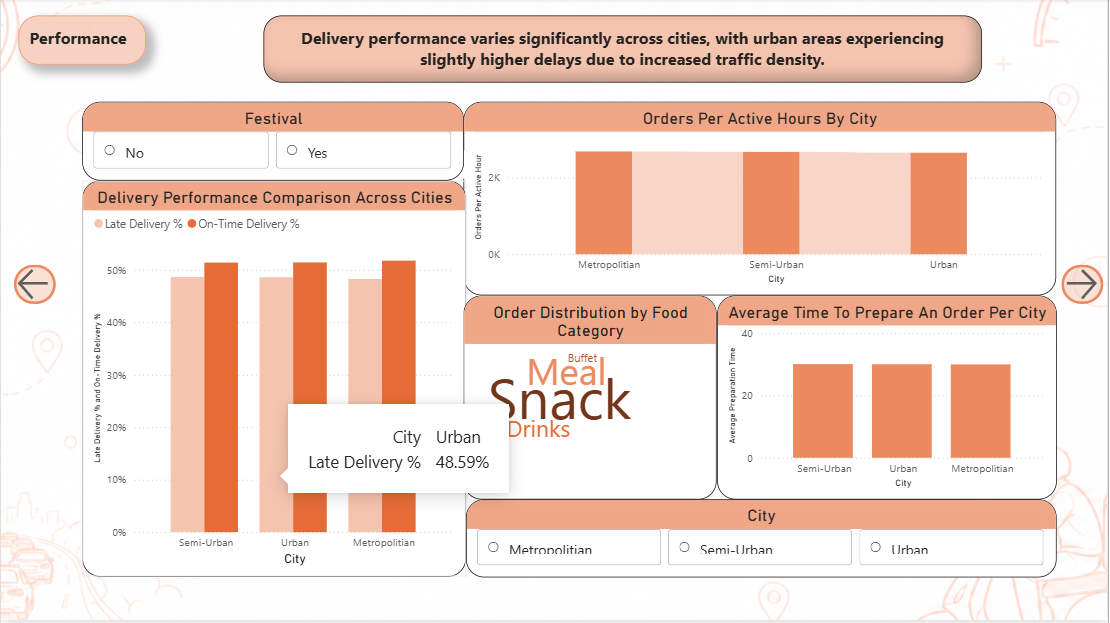

Layout of this report page (visuals, bound fields, positions):
{"tool":"powerbi","page":{"name":"performance","canvas":[1280,720],"ordinal":2},"visuals":[{"type":"ribbonChart","title":"Orders Per  Active Hours By City","fields":{"Category":["train.City"],"Y":["train.Orders Per Active Hour"]},"box":[535.7,119.4,685.3,224.4],"z":0},{"type":"clusteredColumnChart","title":"Delivery Performance Comparison Across Cities","fields":{"Category":["train.City"],"Y":["train.Late Delivery %","train.On-Time Delivery %"]},"box":[94.3,211.4,444.3,458.6],"z":1000},{"type":"WordCloud1447959067750","title":"Order Distribution by Food Category","fields":{"Category":["train.Type_of_order"],"Values":["train.Total Orders"]},"box":[535.7,344.3,292.9,235.7],"z":2000},{"type":"actionButton","box":[1221.5,304.3,58.5,55.5],"z":3000},{"type":"actionButton","box":[10.5,304.3,58.5,55.5],"z":4000},{"type":"textbox","box":[20.5,20.5,147.2,56.7],"z":5000},{"type":"advancedSlicerVisual","fields":{"Values":["train.City"]},"box":[538.6,580,682.9,90],"z":6000},{"type":"advancedSlicerVisual","fields":{"Values":["train.Festival"]},"box":[94.3,120,441.4,91.4],"z":7000},{"type":"textbox","box":[304.2,20.7,830.9,77.4],"z":8000},{"type":"lineClusteredColumnComboChart","title":"Average Time To Prepare An Order Per City","fields":{"Category":["train.City"],"Y":["Avg(train.Time_taken_num)"]},"box":[828.6,344.3,392.9,235.7],"z":9000}]}

Visuals, with their boxes in screenshot pixels (x1, y1, x2, y2), scaled from the page's 1280x720 canvas onto the 1110x623 screenshot:
"Orders Per  Active Hours By City" ribbonChart: bbox=(465, 103, 1059, 297)
"Delivery Performance Comparison Across Cities" clusteredColumnChart: bbox=(82, 183, 467, 580)
"Order Distribution by Food Category" WordCloud1447959067750: bbox=(465, 298, 719, 502)
actionButton: bbox=(1059, 263, 1109, 311)
actionButton: bbox=(9, 263, 60, 311)
textbox: bbox=(18, 18, 145, 67)
advancedSlicerVisual - train.City: bbox=(467, 502, 1059, 580)
advancedSlicerVisual - train.Festival: bbox=(82, 104, 465, 183)
textbox: bbox=(264, 18, 984, 85)
"Average Time To Prepare An Order Per City" lineClusteredColumnComboChart: bbox=(719, 298, 1059, 502)
